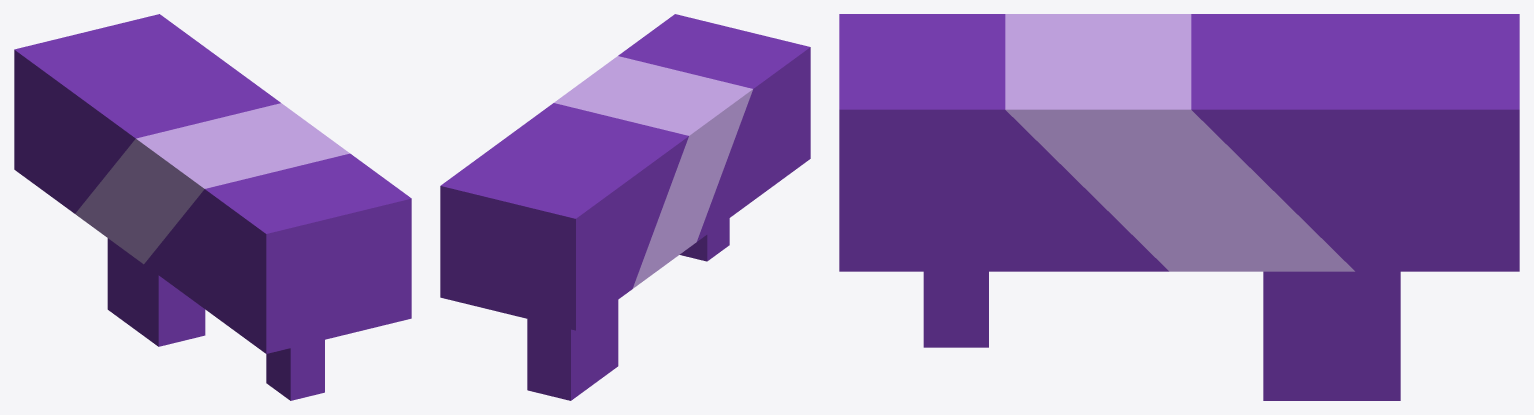
File: star_gun.glb
The picture shows the model from 3 angles, left to right: view 1: azimuth 30°, elevation 25°; view 2: azimuth 150°, elevation 25°; view 3: azimuth 270°, elevation 25°; orthographic projection. The views are drawn at different scales.
Parts seen in each view (by area): view 1: mesh; view 2: mesh; view 3: mesh.
Boxes of the visible parts, <box> form: mesh: <box>14,14,411,400</box>; mesh: <box>440,14,810,400</box>; mesh: <box>839,14,1519,400</box>.
Bounding box in the file's own units: 0.2 × 0.3151 × 0.6002.
Materials: 1 (1 with a texture image).
